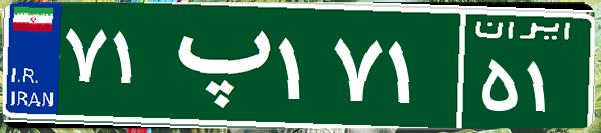1: (385, 28, 445, 110), (273, 28, 330, 110), (110, 28, 158, 105), (525, 38, 570, 115)
5: (475, 38, 525, 113)
7: (330, 28, 385, 110), (57, 26, 110, 107)
پ: (158, 15, 273, 115)
